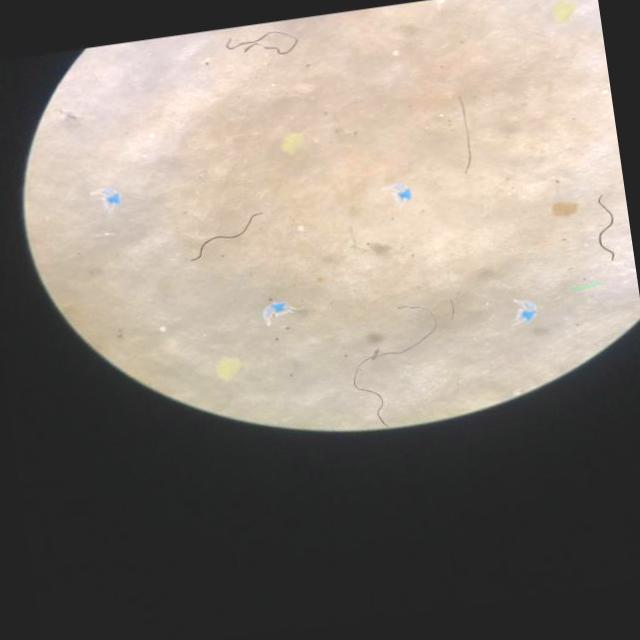fiber: (353, 324, 435, 427), (192, 214, 259, 261), (226, 32, 296, 55), (458, 99, 473, 173), (598, 197, 615, 262)
film: (262, 302, 289, 325), (101, 189, 121, 208), (518, 304, 536, 323), (394, 185, 411, 202)
fragment: (216, 358, 240, 381), (553, 3, 575, 23), (281, 134, 302, 154), (552, 202, 578, 217)
pellet: (149, 133, 155, 139), (160, 327, 166, 332), (394, 50, 399, 56), (298, 227, 302, 231)
